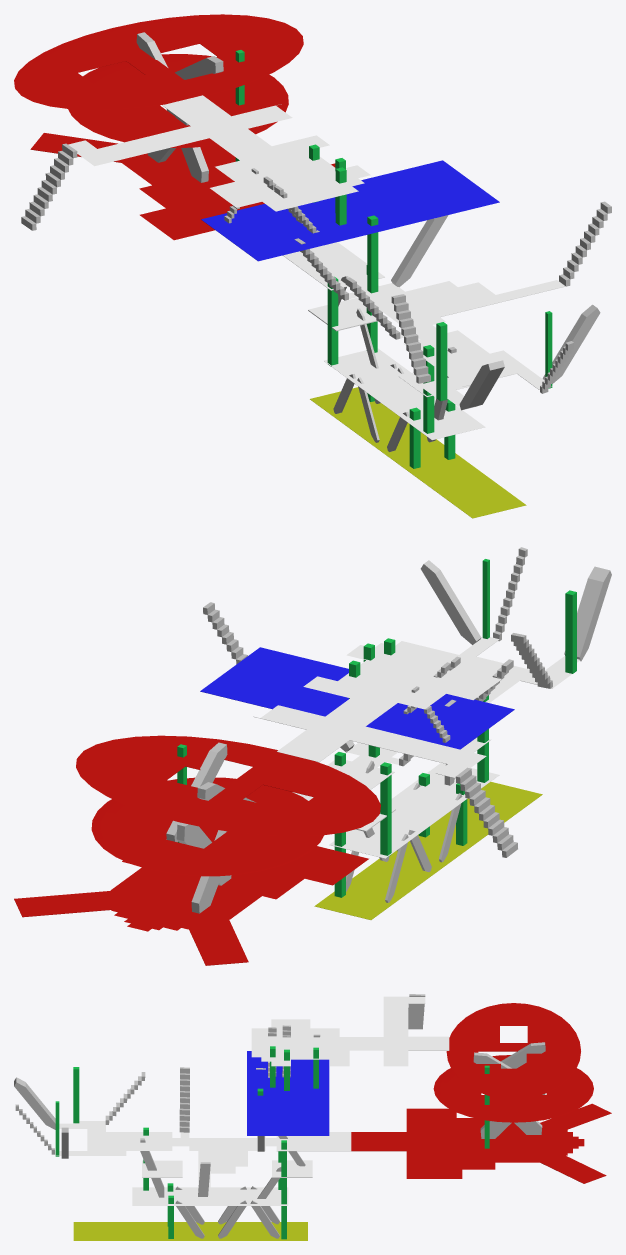
3 views of the same model, one above another, from view 1: azimuth 30°, elevation 25°; view 2: azimuth 150°, elevation 25°; view 3: azimuth 270°, elevation 25° (orthographic). The views are drawn at different scales.
Parts seen in each view (by area): view 1: Sphere.001, Cube.025, 큐브.007, 큐브.006, 큐브.002, Sphere, 큐브.003, 큐브.004, 큐브.012, Cube.006, 큐브.008, Cube.003 (+9 smaller); view 2: Sphere.001, Cube.025, 큐브.007, Sphere, 큐브.006, 큐브.002, 큐브.003, 큐브.004, Cube.003, Cube.002, Cube.007, Cube.024 (+8 smaller); view 3: Cube.025, Sphere.001, 큐브.007, 큐브.006, Sphere, 큐브.002, 큐브.003, Cube.003, 큐브.009, 큐브.001, 큐브.005, Cube.008 (+6 smaller).
Part boxes in pixels (<box>): Sphere.001: <box>14,14,303,110</box>; Cube.025: <box>30,133,565,407</box>; 큐브.007: <box>68,95,370,211</box>; 큐브.006: <box>201,160,499,261</box>; 큐브.002: <box>310,387,526,518</box>; Sphere: <box>68,54,288,147</box>; 큐브.003: <box>324,348,485,440</box>; 큐브.004: <box>21,143,77,230</box>; 큐브.012: <box>391,294,430,383</box>; Cube.006: <box>391,215,448,287</box>; 큐브.008: <box>559,201,611,286</box>; Cube.003: <box>459,360,504,410</box>; Sphere.001: <box>76,735,380,836</box>; Cube.025: <box>14,637,580,965</box>; 큐브.007: <box>253,641,501,778</box>; Sphere: <box>91,777,323,876</box>; 큐브.006: <box>200,647,514,749</box>; 큐브.002: <box>314,782,542,919</box>; 큐브.003: <box>329,762,499,858</box>; 큐브.004: <box>455,767,517,857</box>; Cube.003: <box>564,566,611,661</box>; Cube.002: <box>420,560,481,644</box>; Cube.007: <box>380,762,391,857</box>; Cube.024: <box>166,742,227,842</box>; Cube.025: <box>55,1103,611,1195</box>; Sphere.001: <box>446,1003,580,1099</box>; 큐브.007: <box>251,996,449,1066</box>; 큐브.006: <box>247,1051,329,1135</box>; Sphere: <box>433,1055,593,1122</box>; 큐브.002: <box>73,1222,307,1240</box>; 큐브.003: <box>132,1187,288,1205</box>; Cube.003: <box>14,1077,55,1129</box>; 큐브.009: <box>179,1067,189,1132</box>; 큐브.001: <box>142,1160,182,1177</box>; 큐브.005: <box>272,1160,312,1177</box>; Cube.008: <box>281,1140,286,1239</box>.
Size of the model in its own units: 1775 by 962 by 2934.
